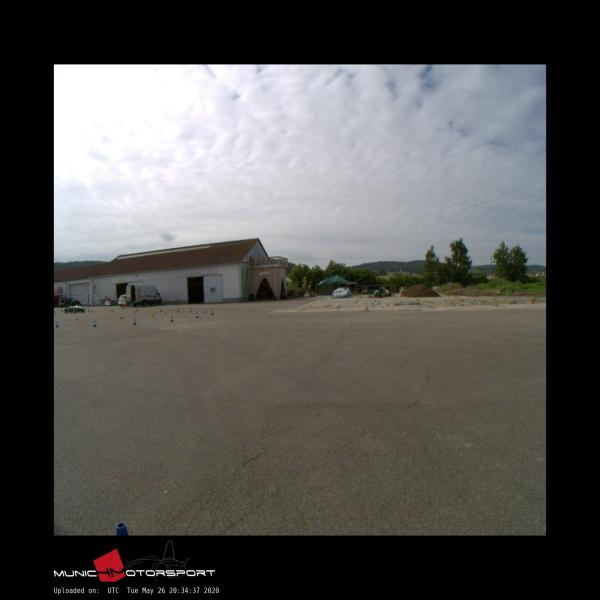blue_cone: (55, 321, 59, 327), (93, 321, 97, 327), (132, 319, 136, 325), (170, 316, 174, 322), (196, 313, 199, 318), (211, 310, 214, 315), (136, 308, 139, 312), (87, 309, 90, 312), (204, 309, 206, 313), (190, 308, 192, 312), (177, 308, 179, 312), (160, 308, 162, 311)
yellow_cone: (75, 317, 78, 322), (164, 310, 167, 315), (120, 316, 123, 320), (152, 312, 154, 318), (111, 310, 114, 314), (133, 310, 135, 314), (91, 310, 93, 314)
